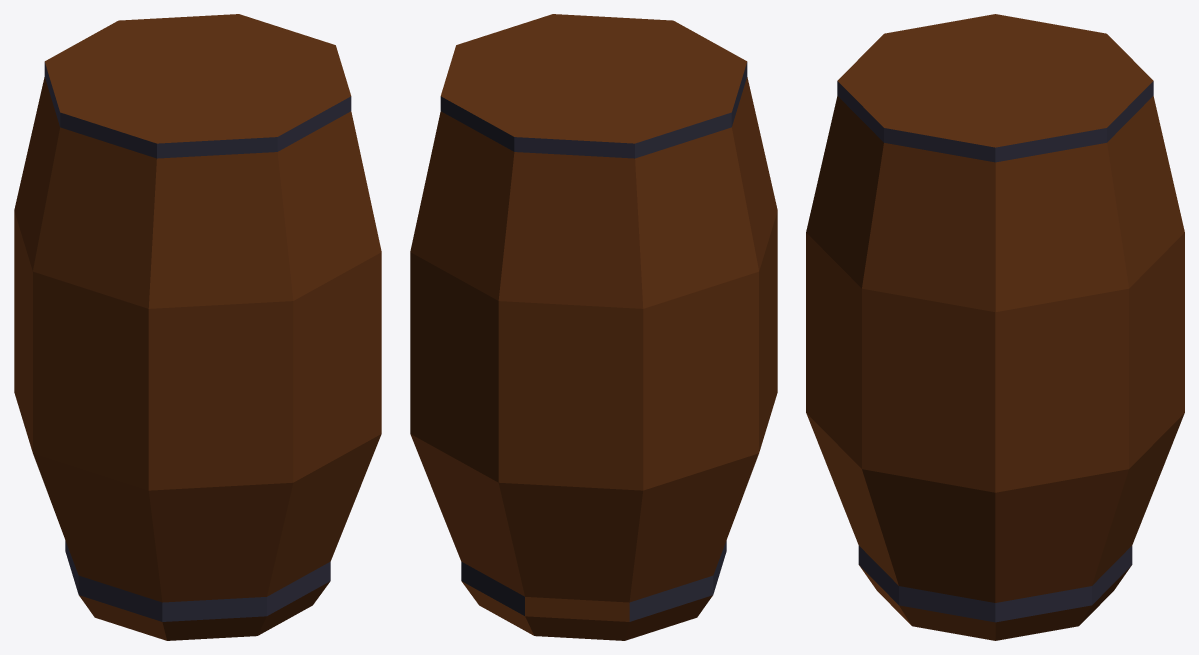
File: barrel.glb
3 views of the same model, side by side, from view 1: azimuth 30°, elevation 25°; view 2: azimuth 150°, elevation 25°; view 3: azimuth 270°, elevation 25° (orthographic).
Visible parts, largest first — view 1: Plane; view 2: Plane; view 3: Plane.
Part boxes in pixels (x1,y1,x2,y2): Plane: (14, 14, 381, 640); Plane: (410, 14, 777, 640); Plane: (806, 14, 1184, 640).
Bounding box in the file's own units: 3.2 × 4.76 × 3.2.
